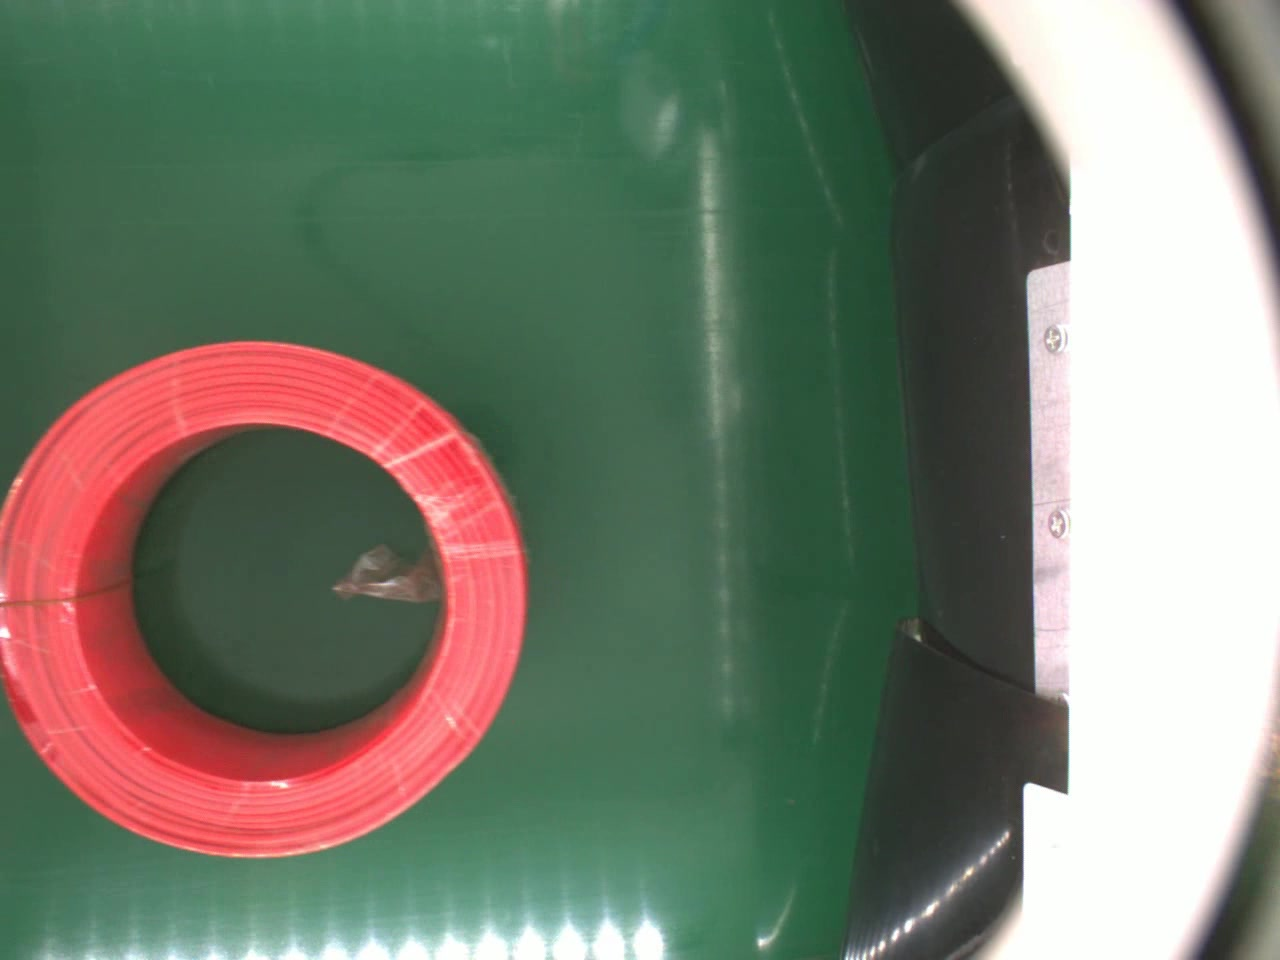red: (1, 338, 529, 860)
